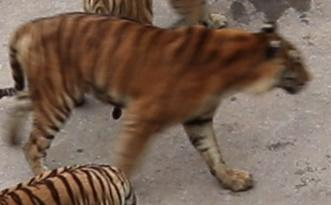tiger: (9, 3, 308, 189)
